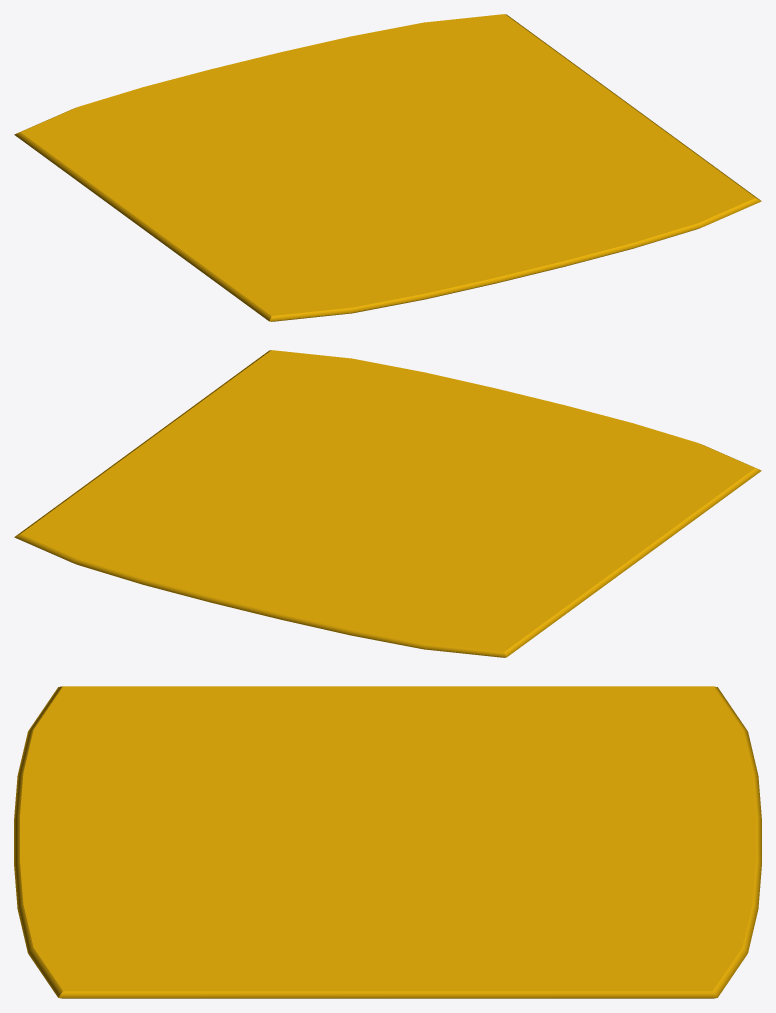
Rendered from hauptma19_Cheddar.fbx.
3 renders of one model, top to bottom at view 1: azimuth 30°, elevation 25°; view 2: azimuth 150°, elevation 25°; view 3: azimuth 270°, elevation 25°, orthographic. The views are drawn at different scales.
Parts seen in each view (by area): view 1: pCube1; view 2: pCube1; view 3: pCube1.
Boxes of the visible parts, bbox=[...] form: pCube1: bbox=[14, 14, 761, 321]; pCube1: bbox=[14, 350, 761, 657]; pCube1: bbox=[14, 686, 761, 998].
Bounding box in the file's own units: 2.04 × 0.0231 × 2.07.
